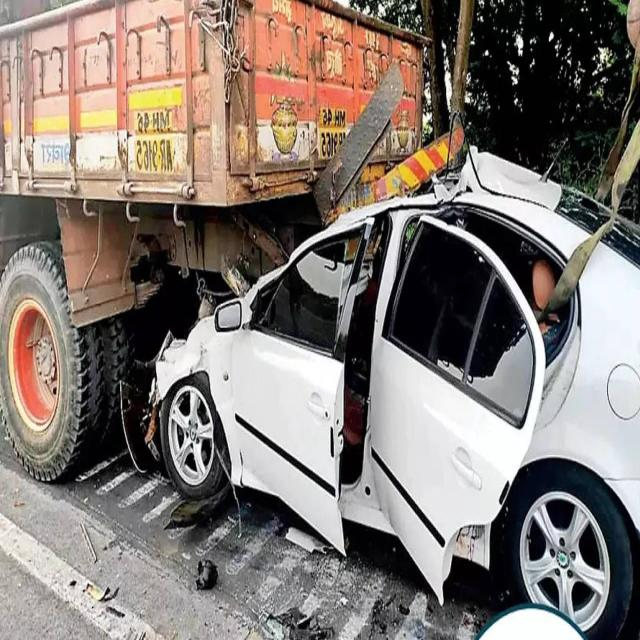accident: (151, 147, 640, 637)
truck: (0, 0, 425, 478)
